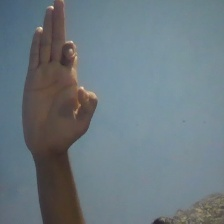F: (18, 1, 101, 158)
